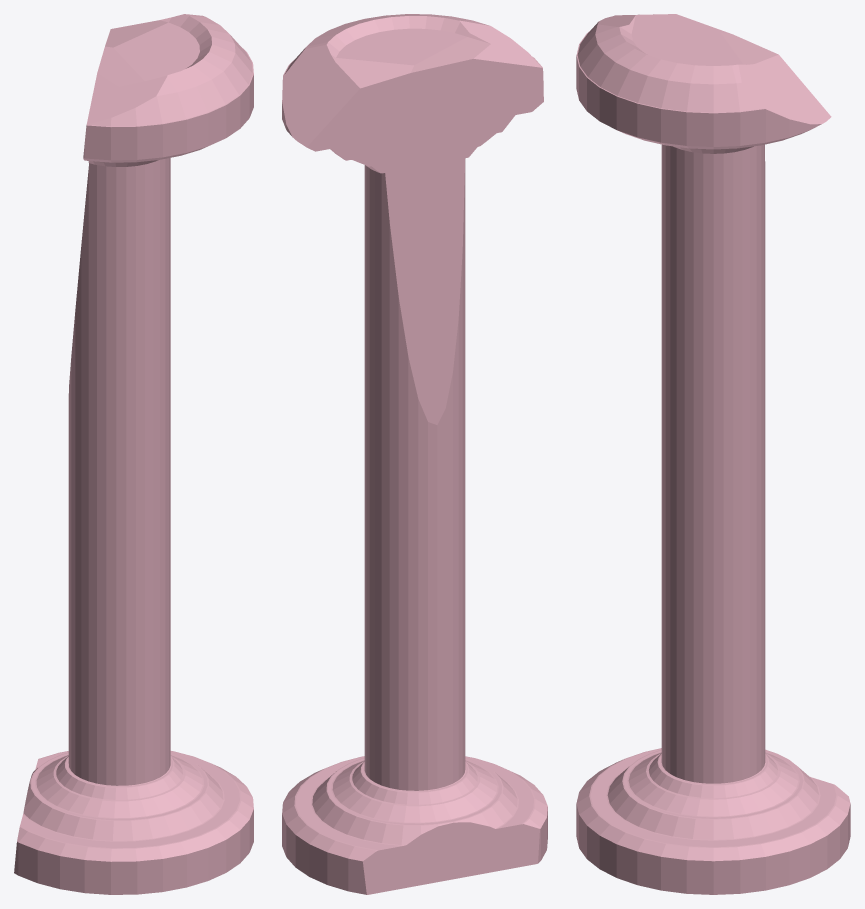
File: Column_6.fbx
The picture shows the model from 3 angles, left to right: view 1: azimuth 30°, elevation 25°; view 2: azimuth 150°, elevation 25°; view 3: azimuth 270°, elevation 25°; orthographic projection. The views are drawn at different scales.
Parts seen in each view (by area): view 1: Cylinder.024; view 2: Cylinder.024; view 3: Cylinder.024.
Part boxes in pixels (x1,y1,x2,y2): Cylinder.024: (14,14,253,894); Cylinder.024: (282,14,547,894); Cylinder.024: (576,14,850,894).
Size of the model in its own units: 111 by 366 by 112.
